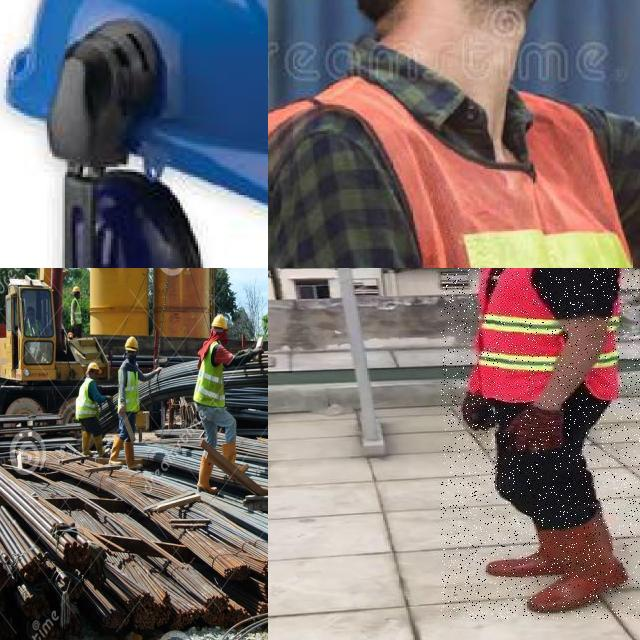Ear-protection: (59, 169, 205, 268)
boots: (528, 522, 628, 614), (220, 437, 250, 483), (484, 553, 532, 575), (195, 459, 222, 496), (105, 434, 124, 468), (92, 428, 112, 458), (124, 445, 144, 473), (79, 429, 96, 458)
head_helmet: (0, 0, 268, 238), (212, 314, 228, 330), (125, 337, 139, 352), (86, 362, 102, 374), (72, 286, 81, 293)
person: (441, 268, 640, 619), (195, 312, 248, 493), (111, 336, 149, 472), (76, 358, 108, 457), (71, 284, 85, 335), (25, 306, 47, 336)
vest: (471, 268, 626, 401), (196, 347, 224, 404), (120, 364, 142, 412), (76, 377, 98, 422), (72, 300, 82, 324)
